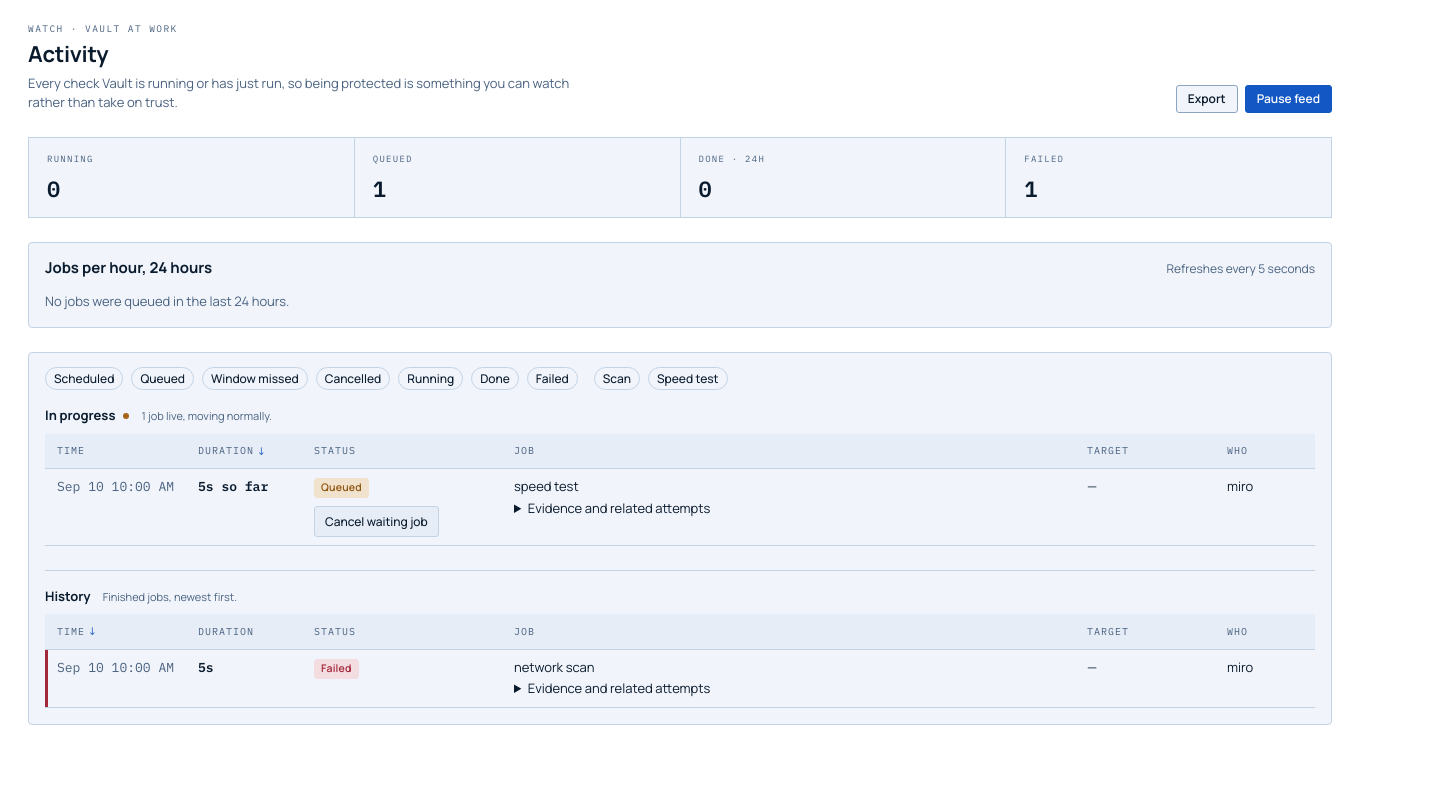
Scenario: Jobs / Activity page › filters by status
Check: the text "speed test" is shown, box [514,477,579,495]
Click the button "Queued" at (163, 378), box [131,367,194,390]
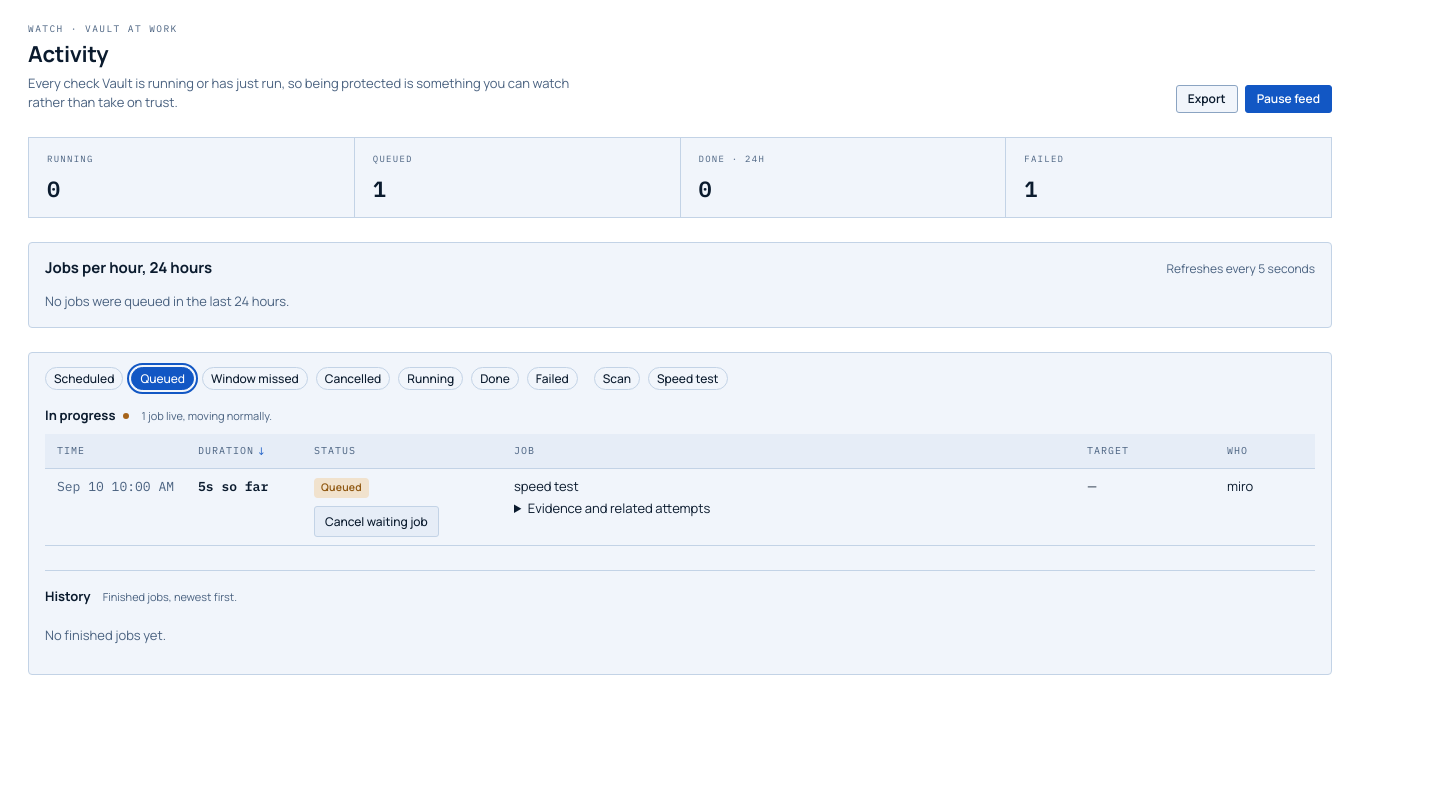
Check: the text "speed test" is shown, box [514,477,579,495]
Check: the text "network scan" is gone
